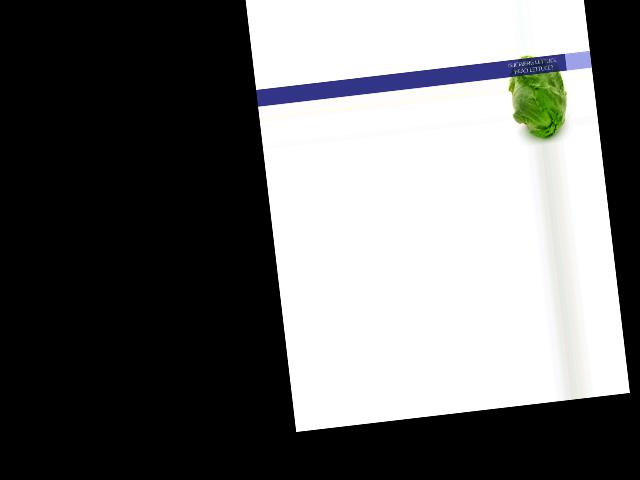lettuce: (505, 51, 569, 145)
